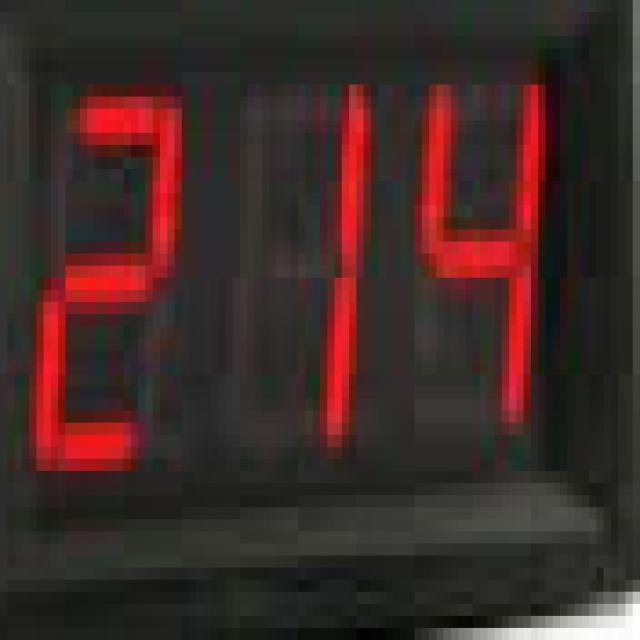1: (304, 59, 408, 456)
2: (32, 74, 236, 491)
4: (410, 50, 570, 464)
screen: (29, 62, 574, 480)
